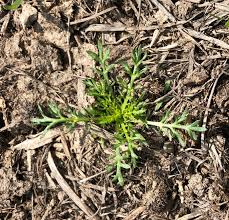pineple: (45, 46, 217, 190)
